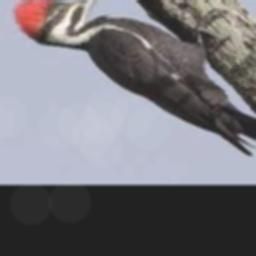Woodpecker: (12, 0, 256, 168)
